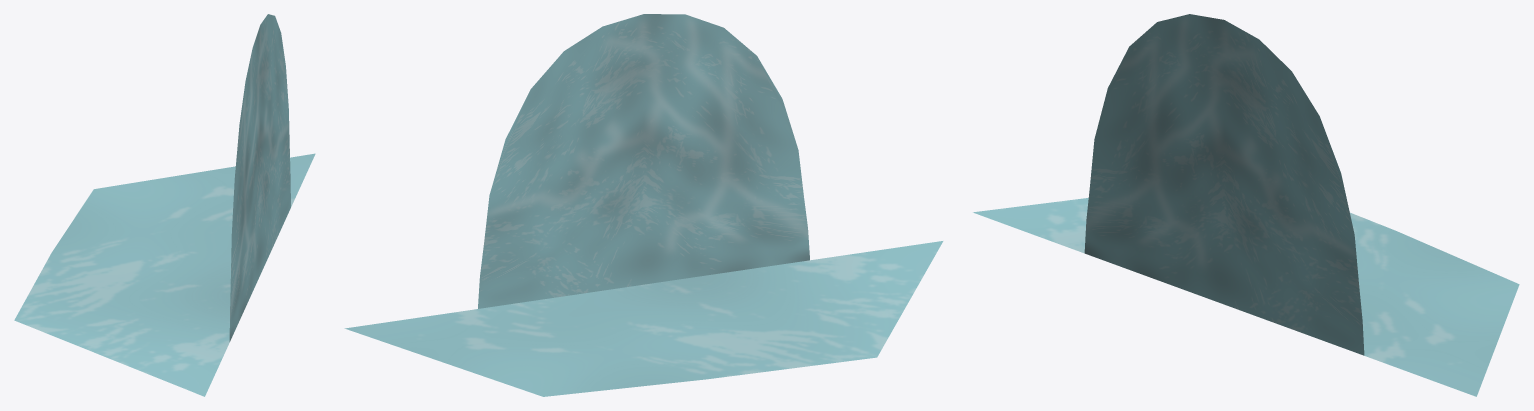
Rendered from LV6Gate.fbx.
3 views of the same model, side by side, from view 1: azimuth 30°, elevation 25°; view 2: azimuth 150°, elevation 25°; view 3: azimuth 270°, elevation 25° (orthographic). The views are drawn at different scales.
Visible parts, largest first — view 1: pDisc1; view 2: pDisc1; view 3: pDisc1.
Part boxes in pixels (x1,y1,x2,y2): pDisc1: [14, 14, 315, 396]; pDisc1: [344, 14, 943, 396]; pDisc1: [973, 14, 1519, 396].
Bounding box in the file's own units: 44.75 × 26.95 × 46.95.
